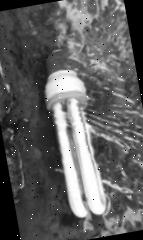lightbulb: (36, 44, 112, 222)
